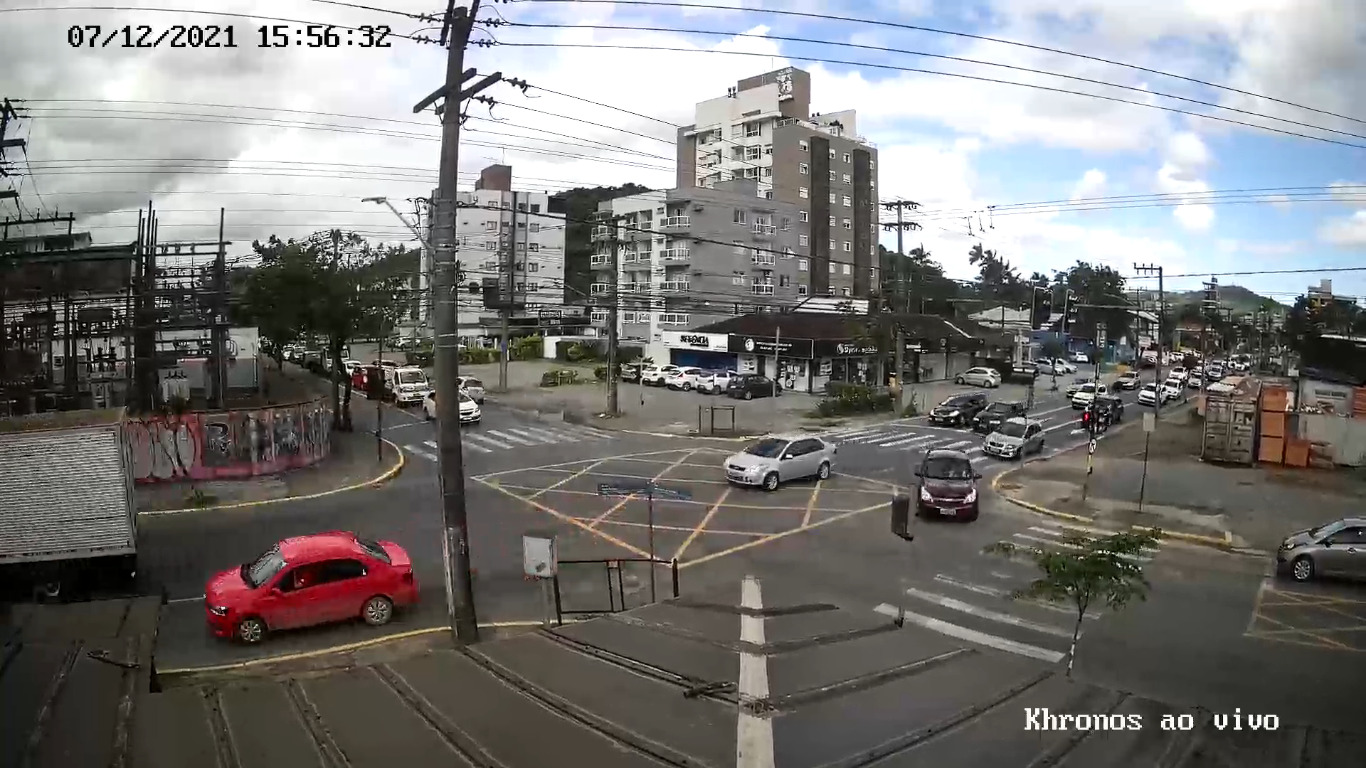car: (203, 530, 420, 644), (1278, 518, 1366, 583)
